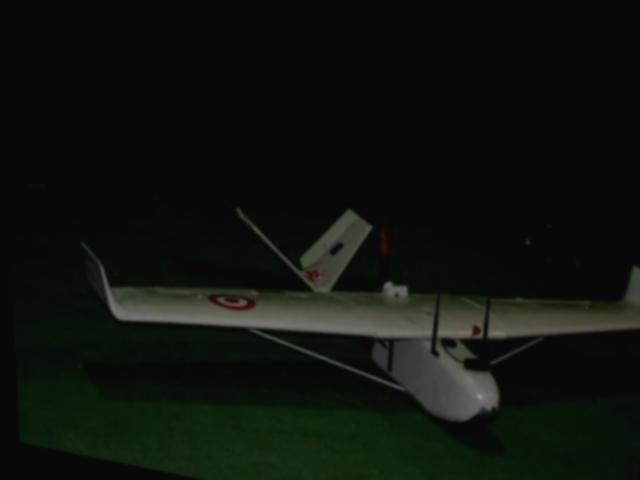iha: (47, 136, 640, 462)
